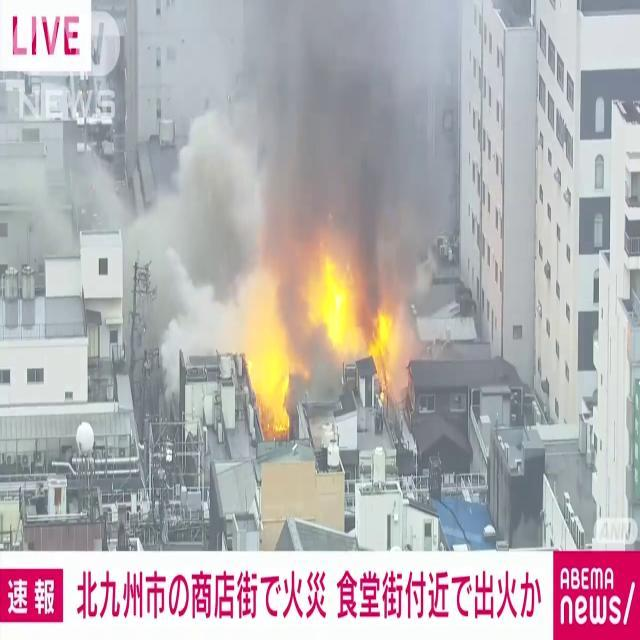Fire: (239, 236, 401, 432), (309, 238, 401, 392)
Smoke: (170, 1, 458, 304)
